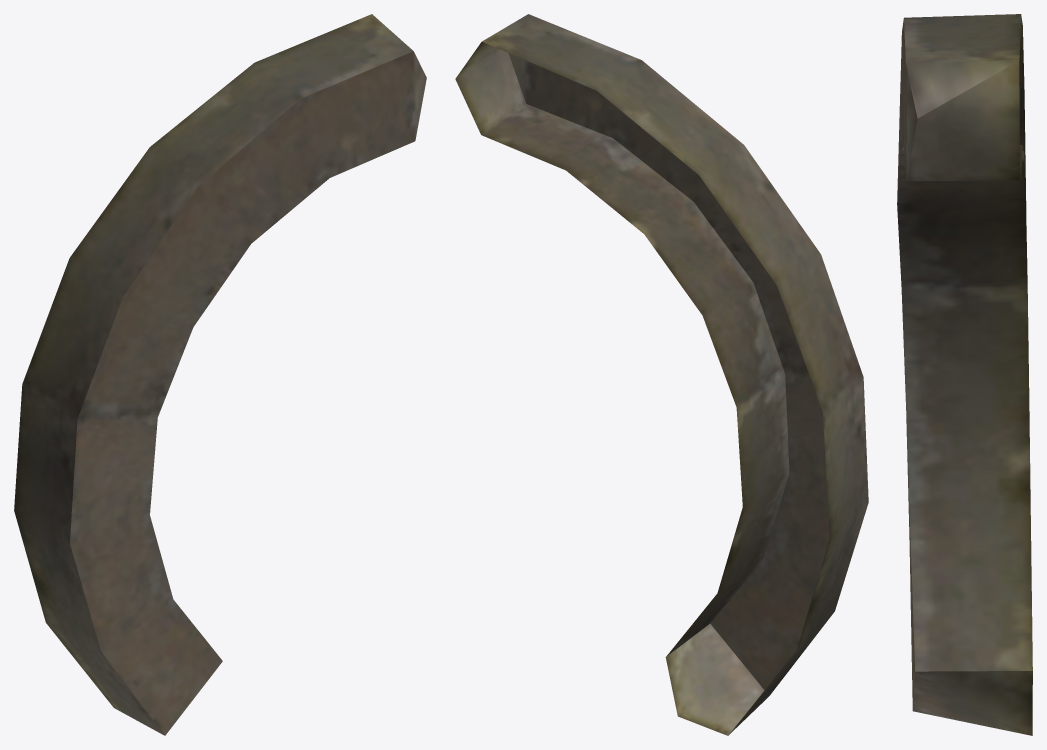
File: border_c_90_4.glb
3 views of the same model, side by side, from view 1: azimuth 30°, elevation 25°; view 2: azimuth 150°, elevation 25°; view 3: azimuth 270°, elevation 25° (orthographic). The views are drawn at different scales.
Visible parts, largest first — view 1: set_0_group_0; view 2: set_0_group_0; view 3: set_0_group_0.
Part boxes in pixels (box(x1,y1,x2,y2)): set_0_group_0: box(14, 14, 426, 735); set_0_group_0: box(455, 14, 868, 735); set_0_group_0: box(897, 14, 1032, 735).
Bounding box in the file's own units: 1.36 × 2.16 × 0.3275.
1 material, 1 textured.
